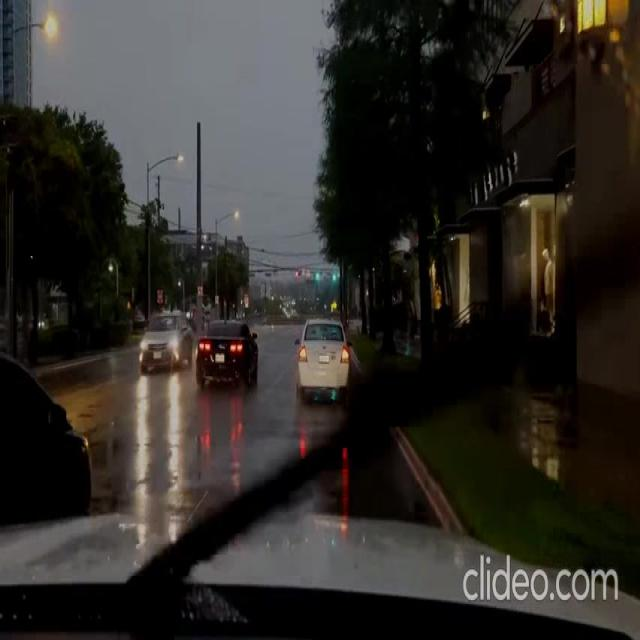Car: (192, 317, 258, 386), (295, 317, 349, 395), (138, 308, 193, 366)
